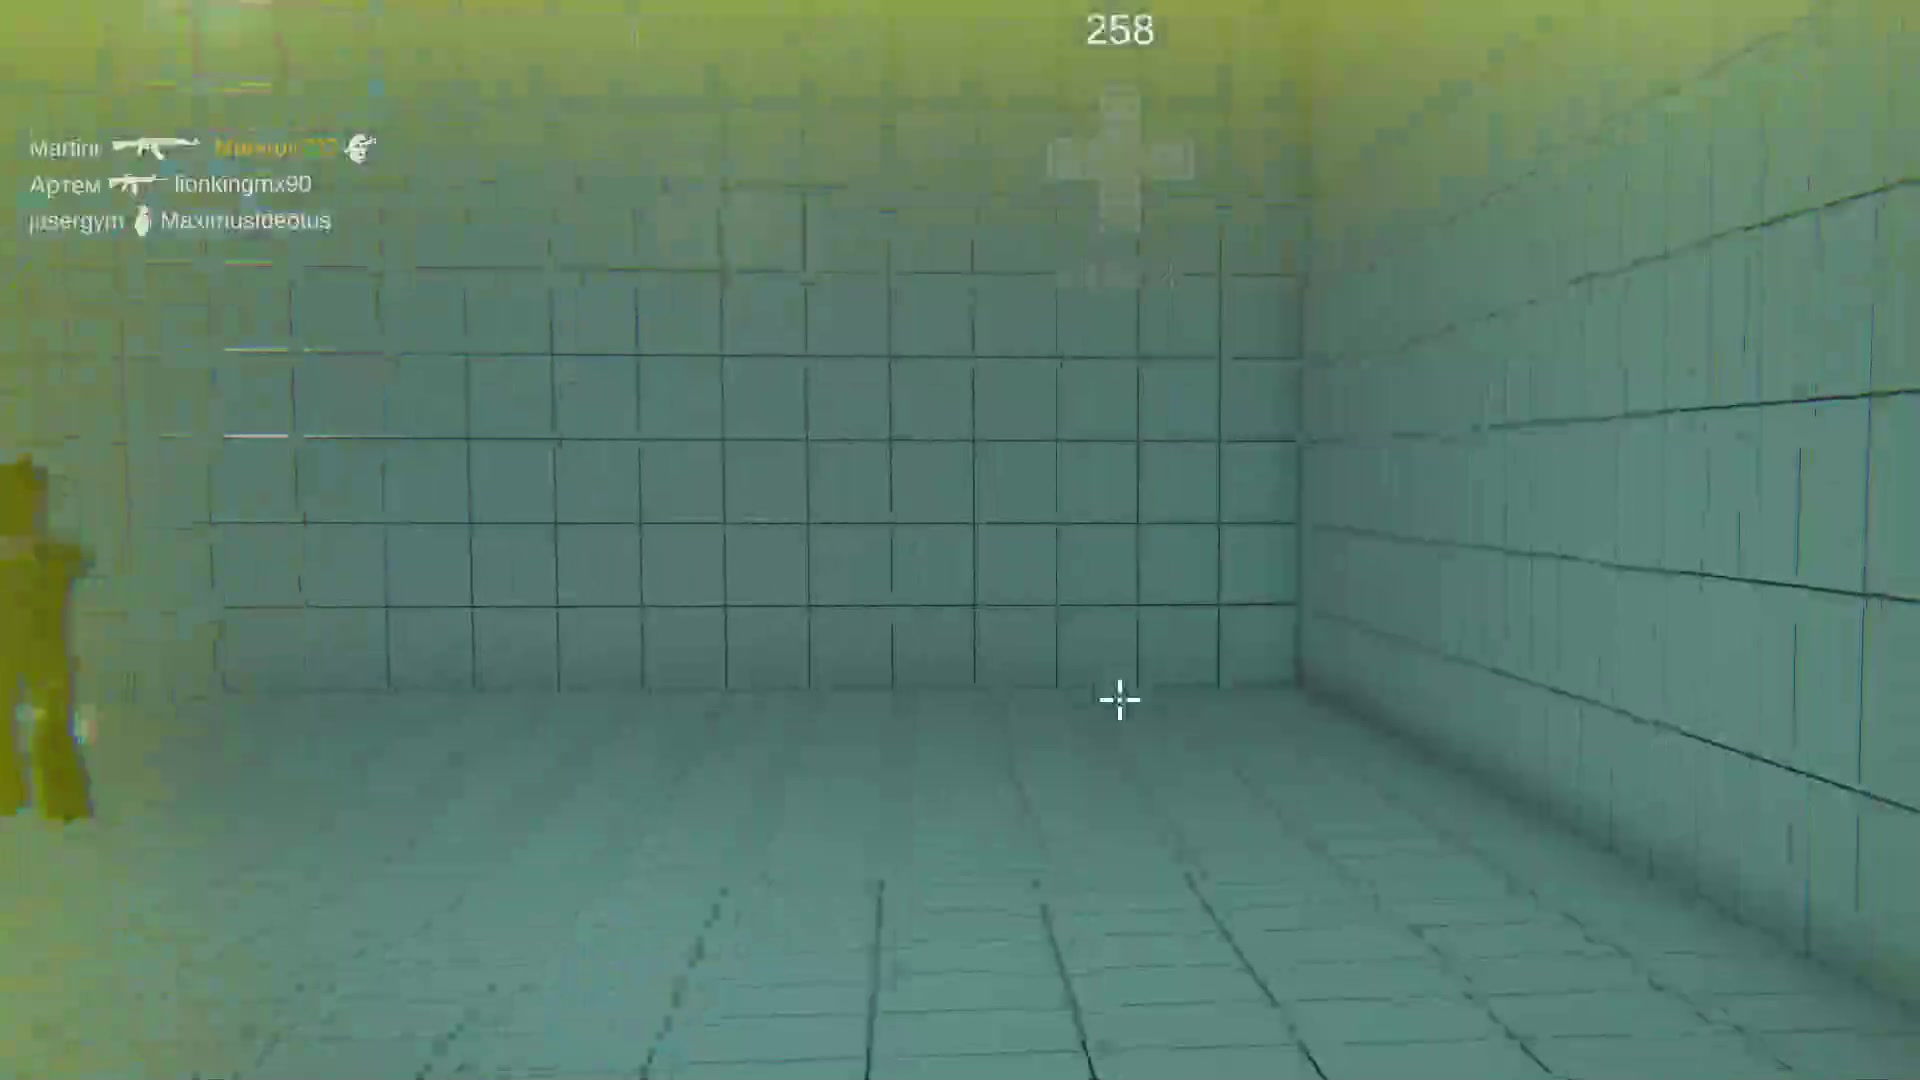human: (1, 439, 86, 826)
